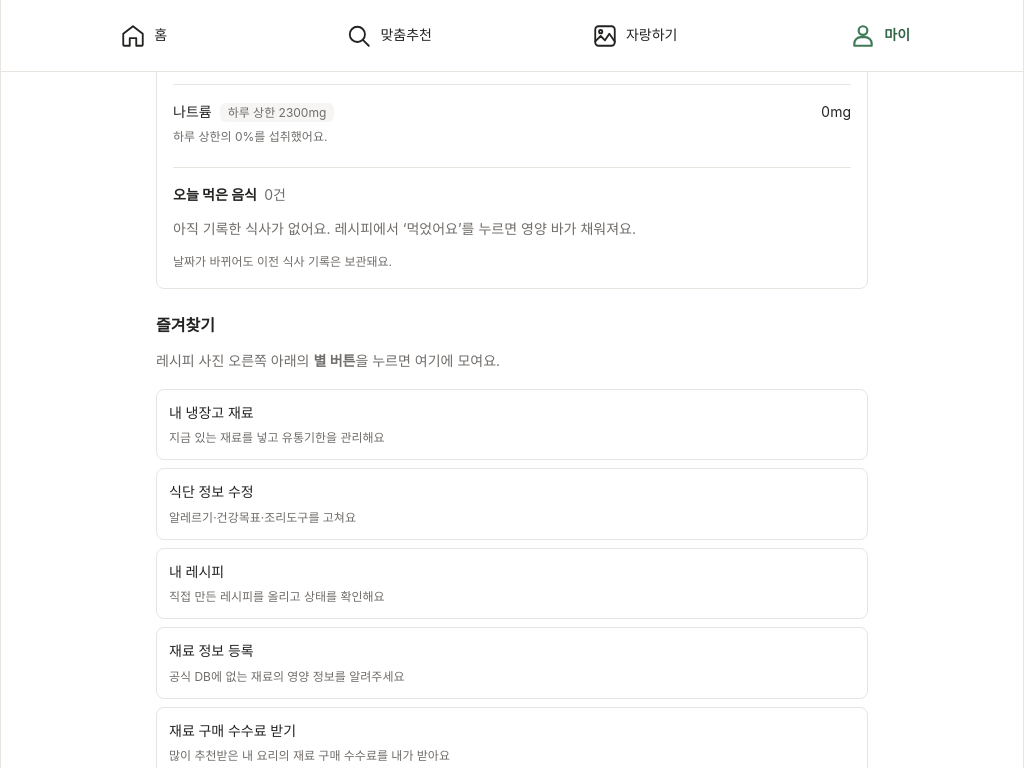
it: 라우팅 › 냉장고는 탭이 아니라 마이 안에서 들어간다
(page scrolled)
Step 1. Click the link "내 냉장고 재료 지금 있는 재료를 넣고 유통기한을 관리해요" → (211, 412), box [156,389,868,460]
(page scrolled)
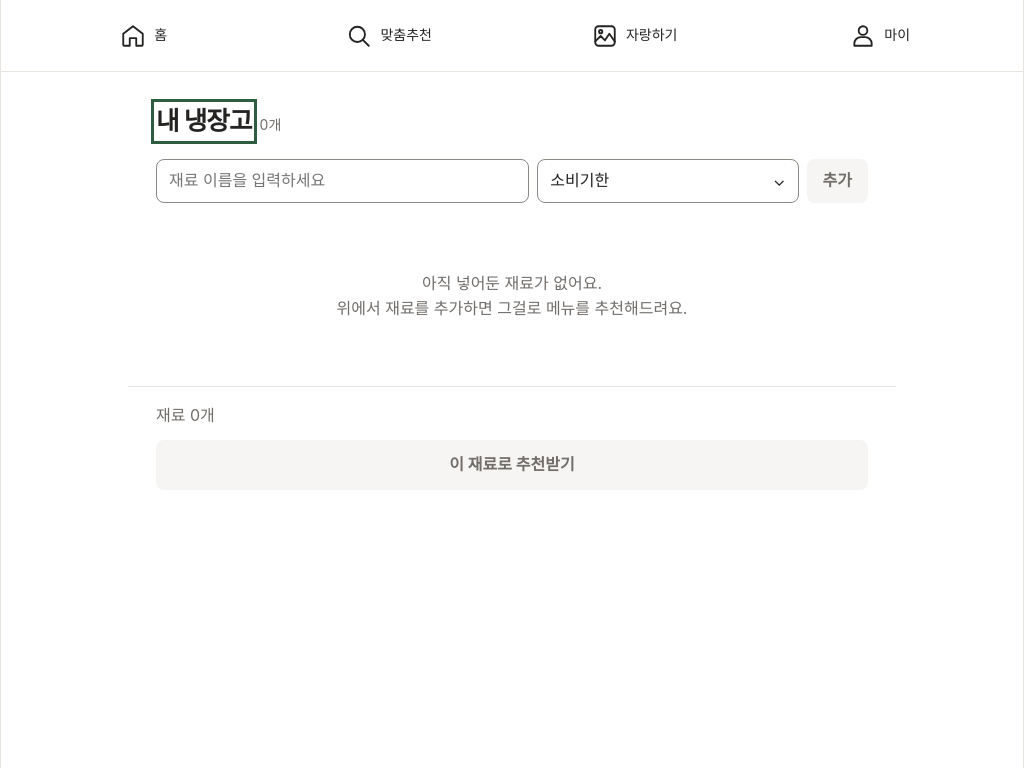
Check: the heading "내 냉장고" is shown, box [156,104,252,138]
